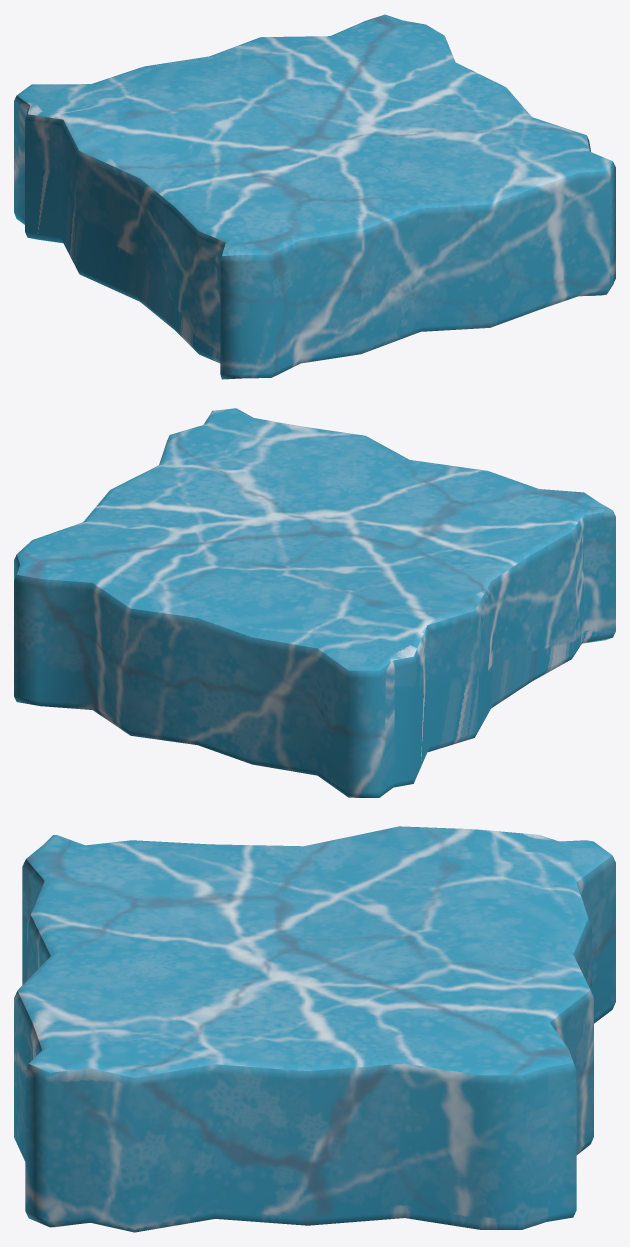
The model's file is 4stage.fbx.
3 views of the same model, one above another, from view 1: azimuth 30°, elevation 25°; view 2: azimuth 150°, elevation 25°; view 3: azimuth 270°, elevation 25° (orthographic). The views are drawn at different scales.
Visible parts, largest first — view 1: pCube537; view 2: pCube537; view 3: pCube537.
Part boxes in pixels (box(x1,y1,x2,y2)): pCube537: box(14, 14, 615, 379); pCube537: box(14, 408, 615, 797); pCube537: box(14, 826, 615, 1232).
Bounding box in the file's own units: 6.62 × 2.17 × 6.78.
Materials: 1 (1 with a texture image).
